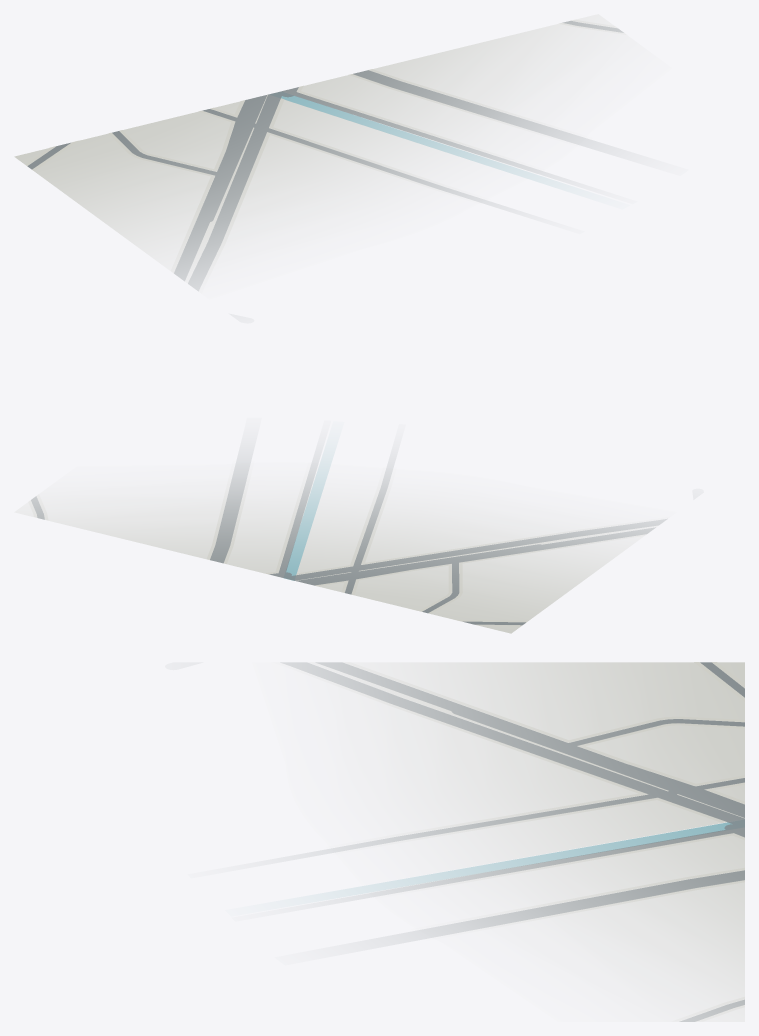
3 renders of one model, top to bottom at view 1: azimuth 30°, elevation 25°; view 2: azimuth 150°, elevation 25°; view 3: azimuth 270°, elevation 25°, orthographic. The views are drawn at different scales.
Visible parts, largest first — view 1: city; view 2: city; view 3: city.
Part boxes in pixels (x1=…): city: x1=14, y1=14, x2=625, y2=290; city: x1=16, y1=453, x2=667, y2=633; city: x1=280, y1=662, x2=744, y2=1021.
Size of the model in its own units: 500 by 0.4 by 429.
